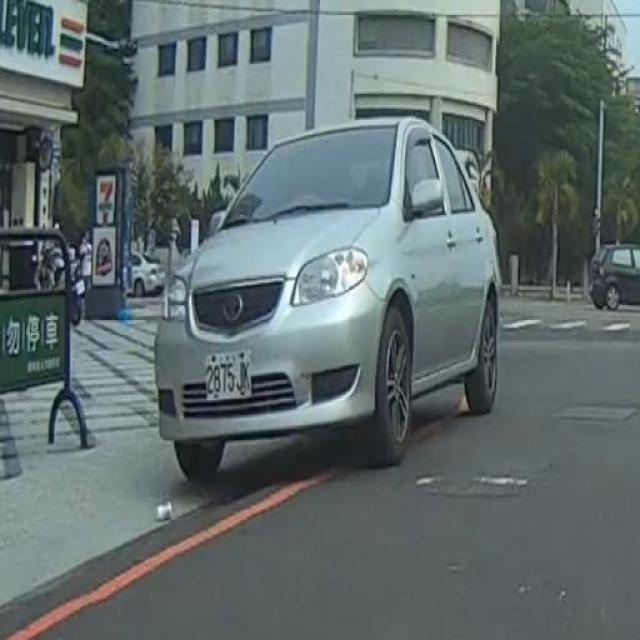illegalparking: (90, 82, 541, 509)
